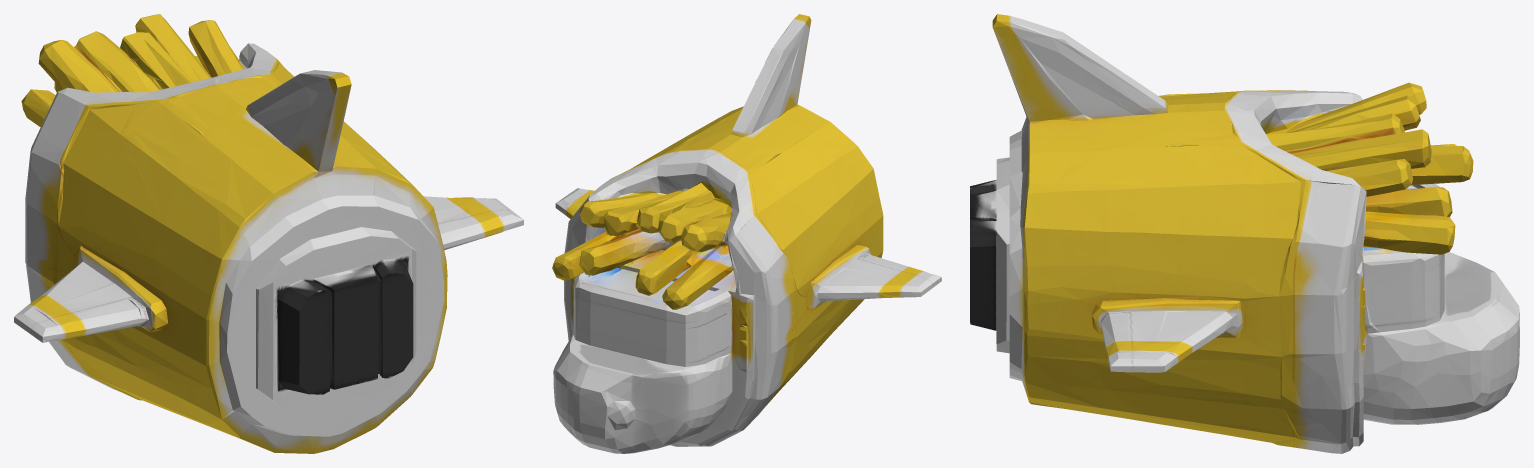
File: player.glb
3 renders of one model, left to right at view 1: azimuth 30°, elevation 25°; view 2: azimuth 150°, elevation 25°; view 3: azimuth 270°, elevation 25°, orthographic. The views are drawn at different scales.
Parts seen in each view (by area): view 1: tripo_node_798f8d0e-a0ed-40a2-bed0-c5c3033cc1f5; view 2: tripo_node_798f8d0e-a0ed-40a2-bed0-c5c3033cc1f5; view 3: tripo_node_798f8d0e-a0ed-40a2-bed0-c5c3033cc1f5.
Part boxes in pixels (box(x1,y1,x2,y2)): tripo_node_798f8d0e-a0ed-40a2-bed0-c5c3033cc1f5: box(14, 14, 523, 453); tripo_node_798f8d0e-a0ed-40a2-bed0-c5c3033cc1f5: box(552, 14, 941, 453); tripo_node_798f8d0e-a0ed-40a2-bed0-c5c3033cc1f5: box(970, 14, 1519, 453).
Bounding box in the file's own units: 0.9774 × 0.843 × 0.9998.
Materials: 1 (1 with a texture image).
